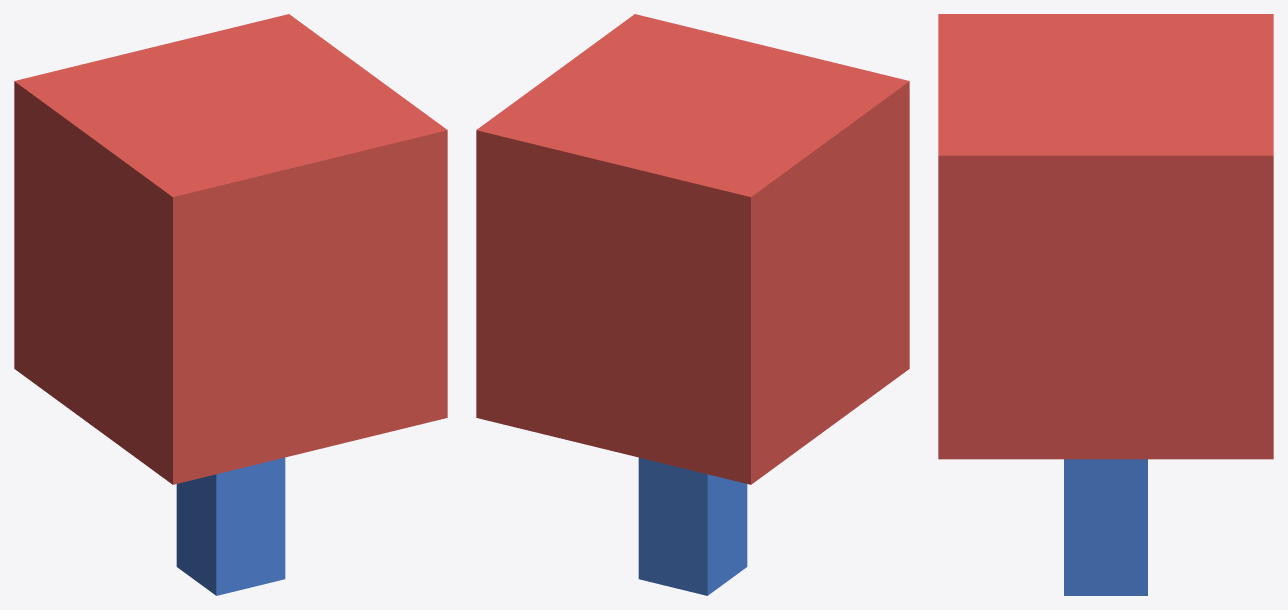
Rendered from spinner.glb.
3 renders of one model, left to right at view 1: azimuth 30°, elevation 25°; view 2: azimuth 150°, elevation 25°; view 3: azimuth 270°, elevation 25°, orthographic. The views are drawn at different scales.
Visible parts, largest first — view 1: Box, Post; view 2: Box, Post; view 3: Box, Post.
Part boxes in pixels (x1,y1,x2,y2): Box: (14,14,447,484); Post: (176,457,285,595); Box: (476,14,909,484); Post: (638,457,747,595); Box: (938,14,1273,459); Post: (1064,459,1147,595).
Bounding box in the file's own units: 0.8 × 1.3 × 0.8.
